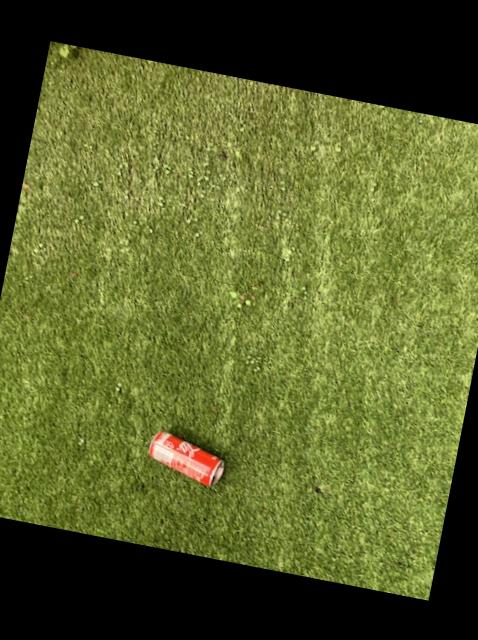metal: (150, 429, 226, 484)
